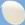Balloon: (1, 1, 25, 25)
